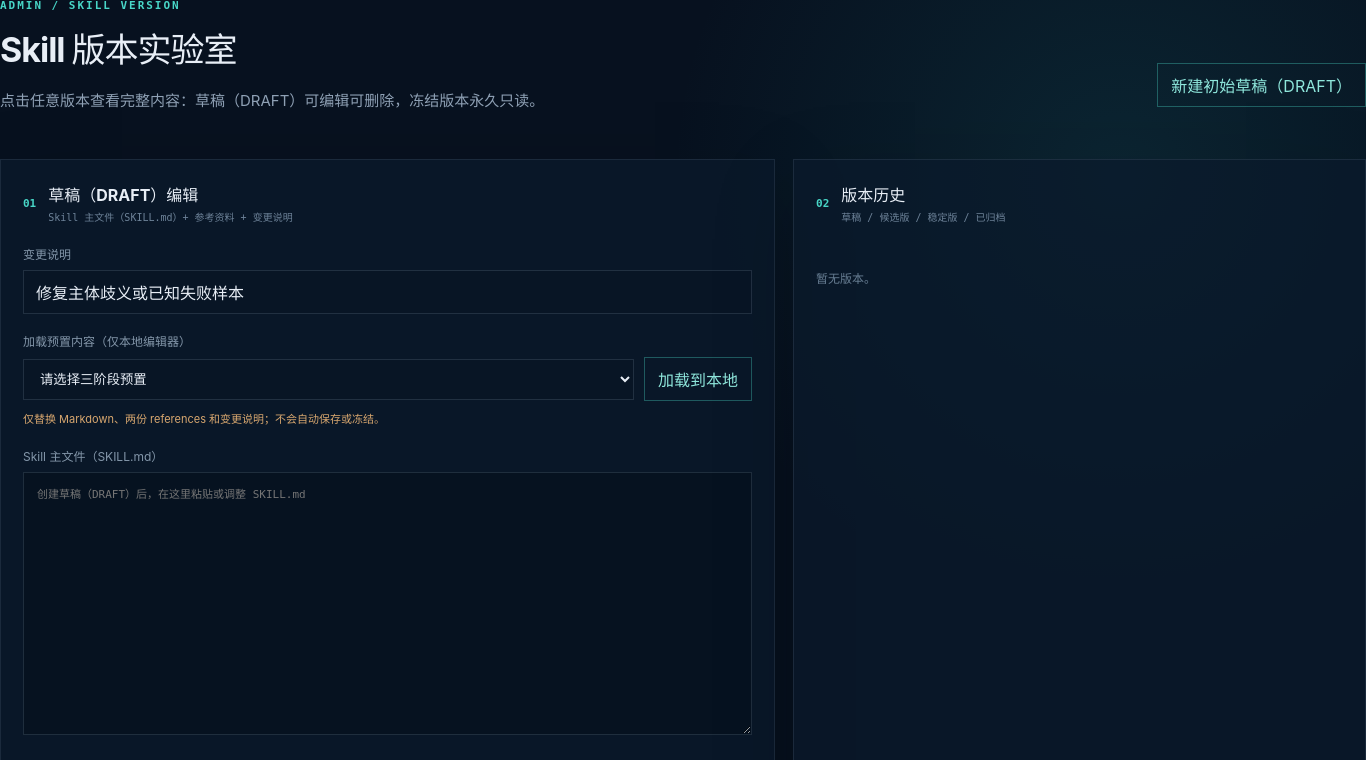
Test: SkillLabPage › 仅 DRAFT 可加载预置，确认后只替换本地编辑器内容
Select "优化候选版 · 阶段二：优化候选" in the dropdown with test id "skill-preset". click: (329, 379)
box: [23, 358, 634, 400]
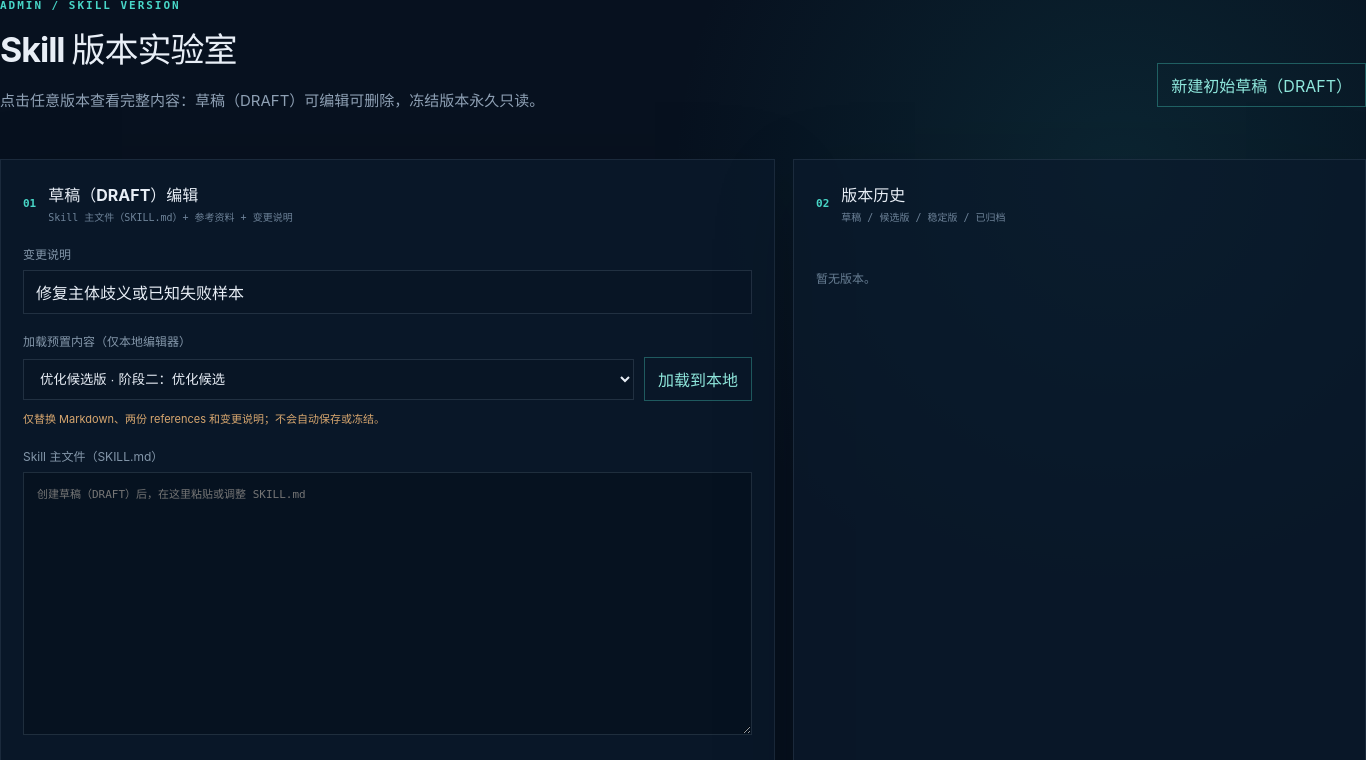
Click the button with test id "apply-skill-preset". click: (698, 379)
box: [644, 357, 752, 401]
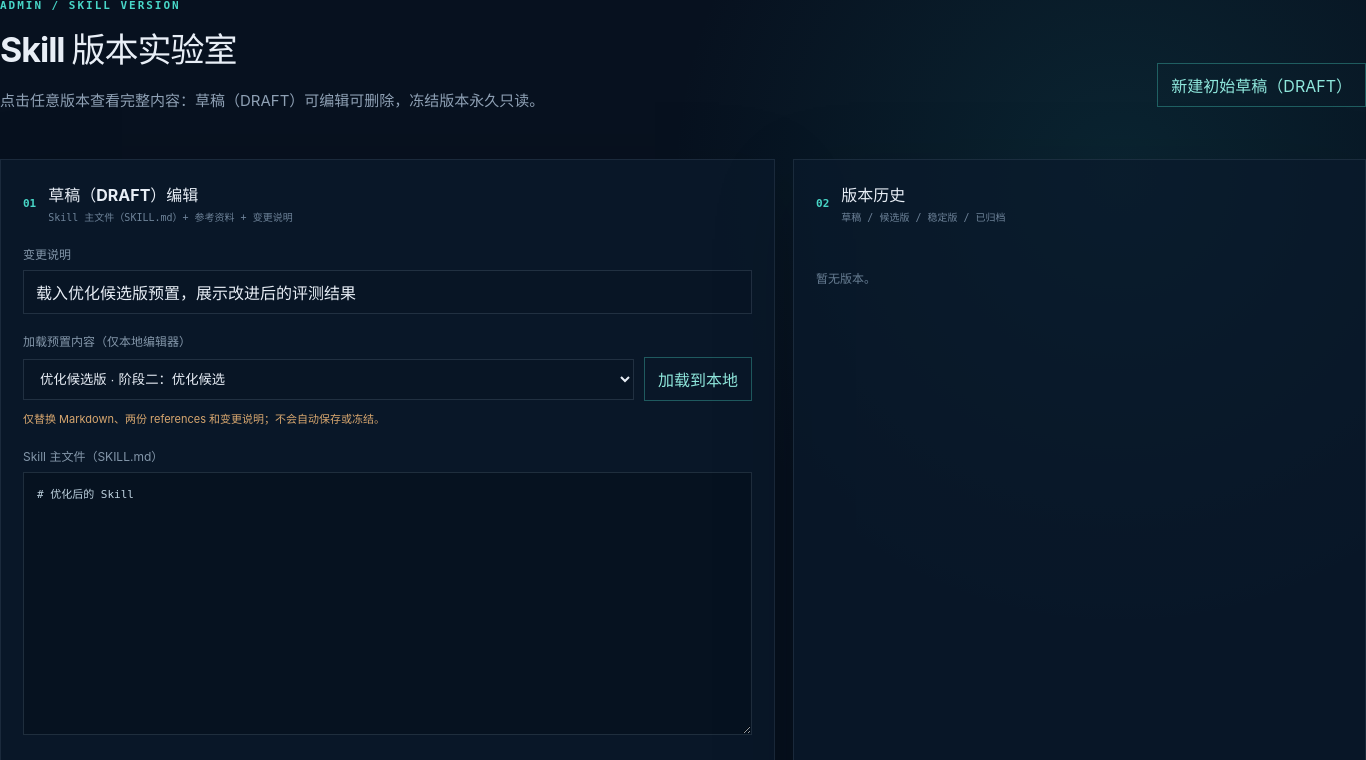
Check: the text box with class "code-editor" holds "# 优化后的 Skill", box [23, 472, 752, 735]
Check: the field holds "载入优化候选版预置，展示改进后的评测结果", box [23, 270, 752, 314]
